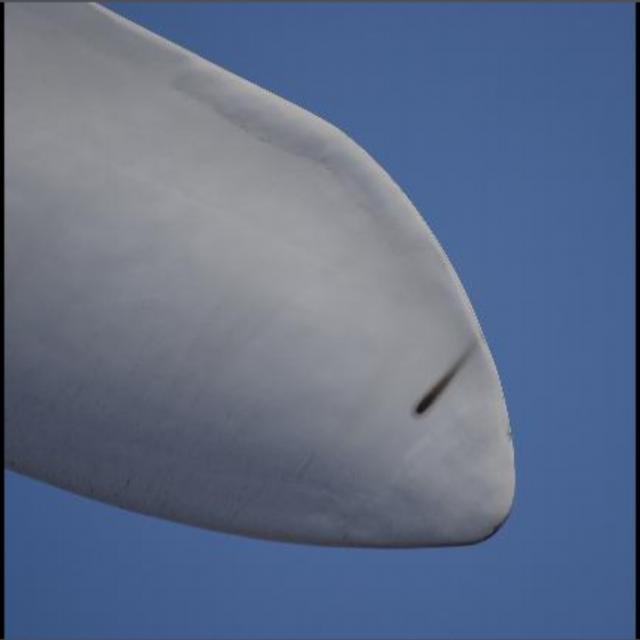Burn Mark: (415, 343, 473, 419)
